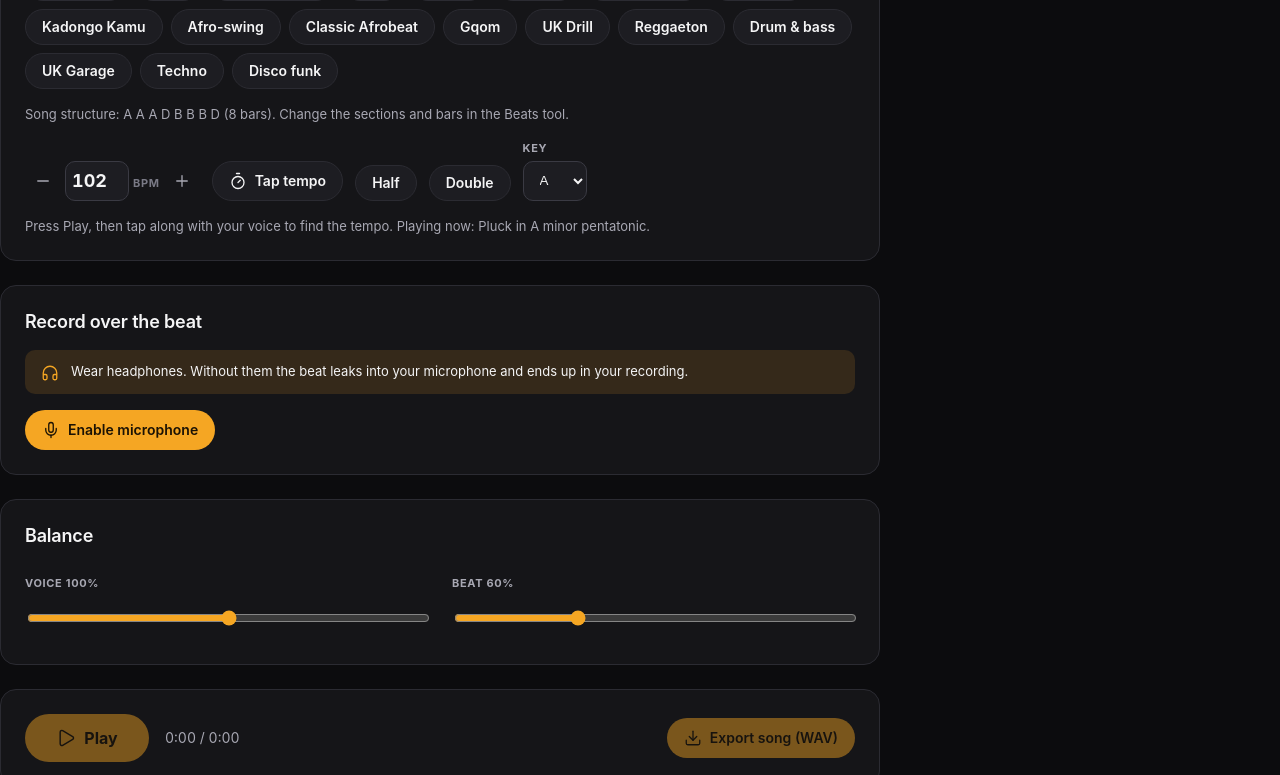
Test: Record over the beat: setup › explains what to do when the microphone is blocked
(page scrolled)
Click the button "Enable microphone". click: (120, 430)
box: [25,410,215,450]
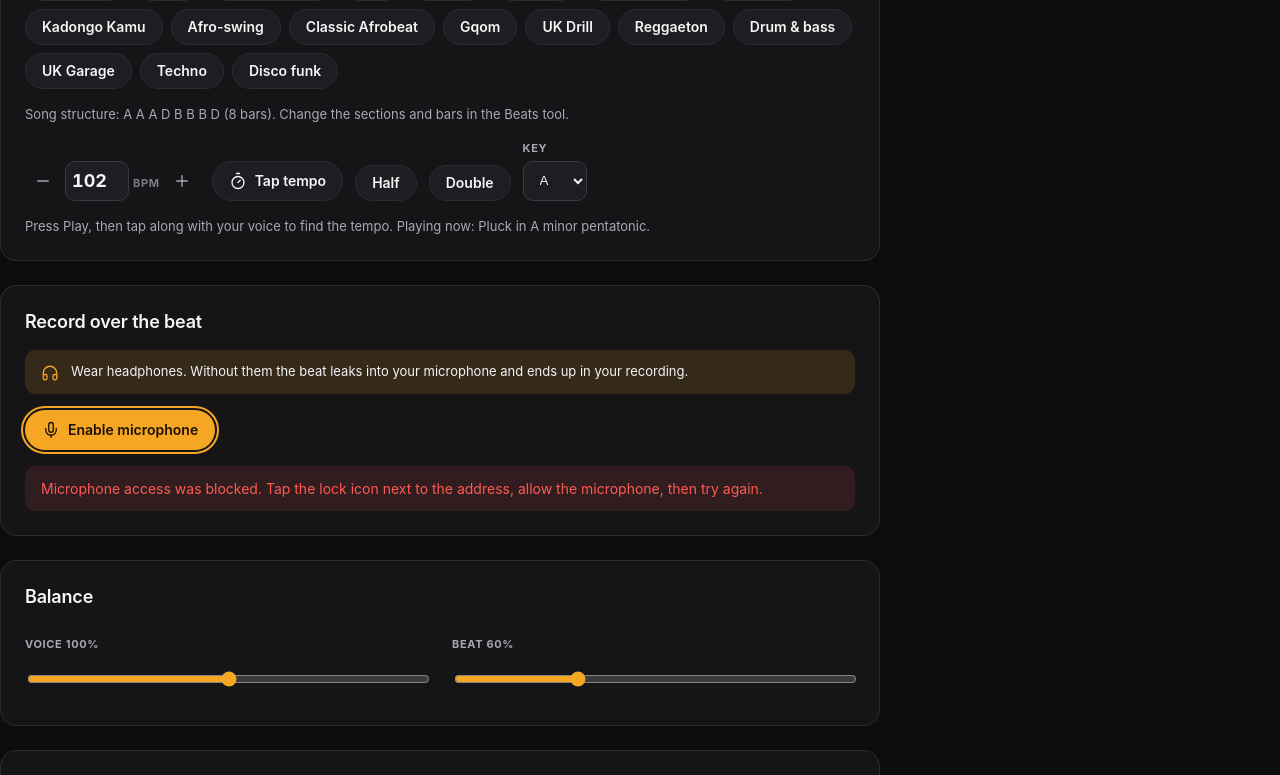
expect the message shows "blocked": met, box [41,480,763,497]
